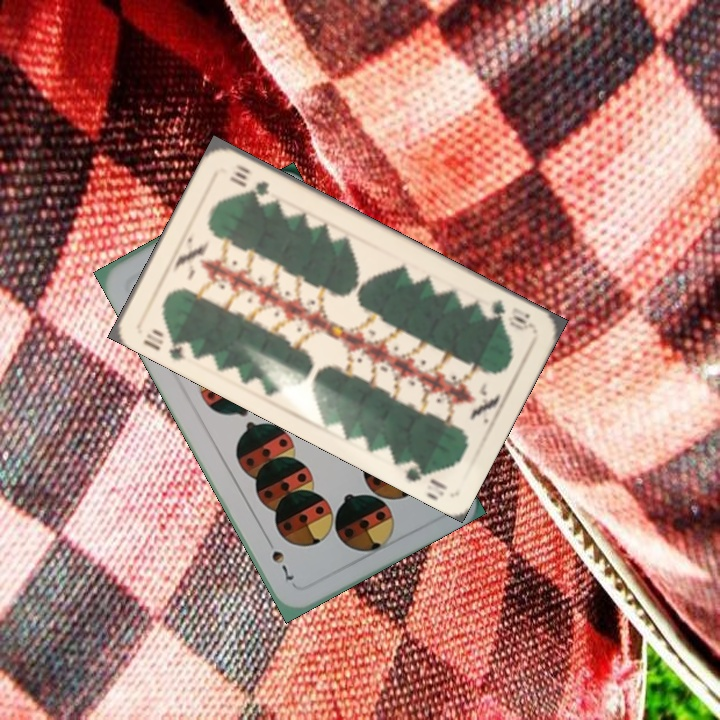G10: (139, 324, 196, 363), (488, 296, 536, 334)
